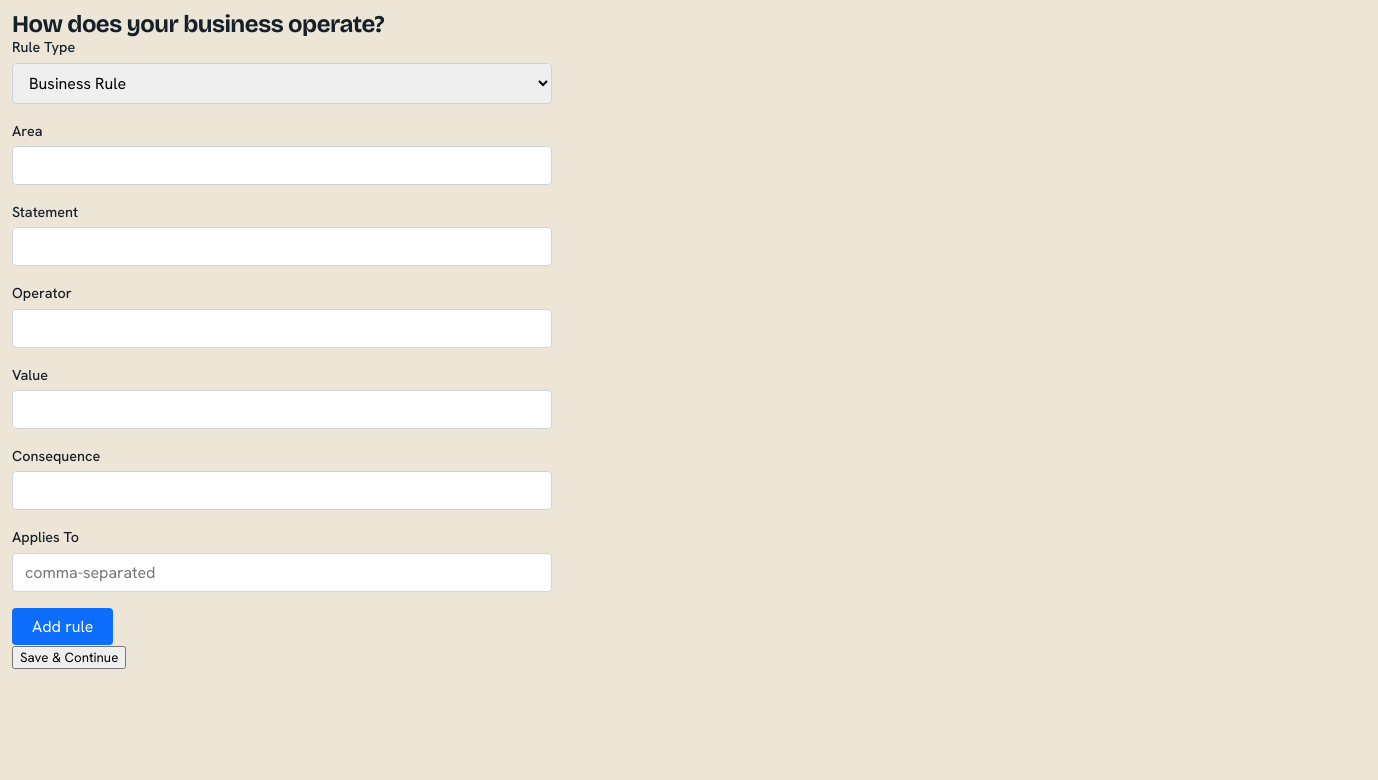
Test: RulesStep › can add a rule: fill form and click Add rule → rule appears in list
Select "Business Rule" in the dropdown labelled "Rule Type" at (282, 83), box [12,63,552,104]
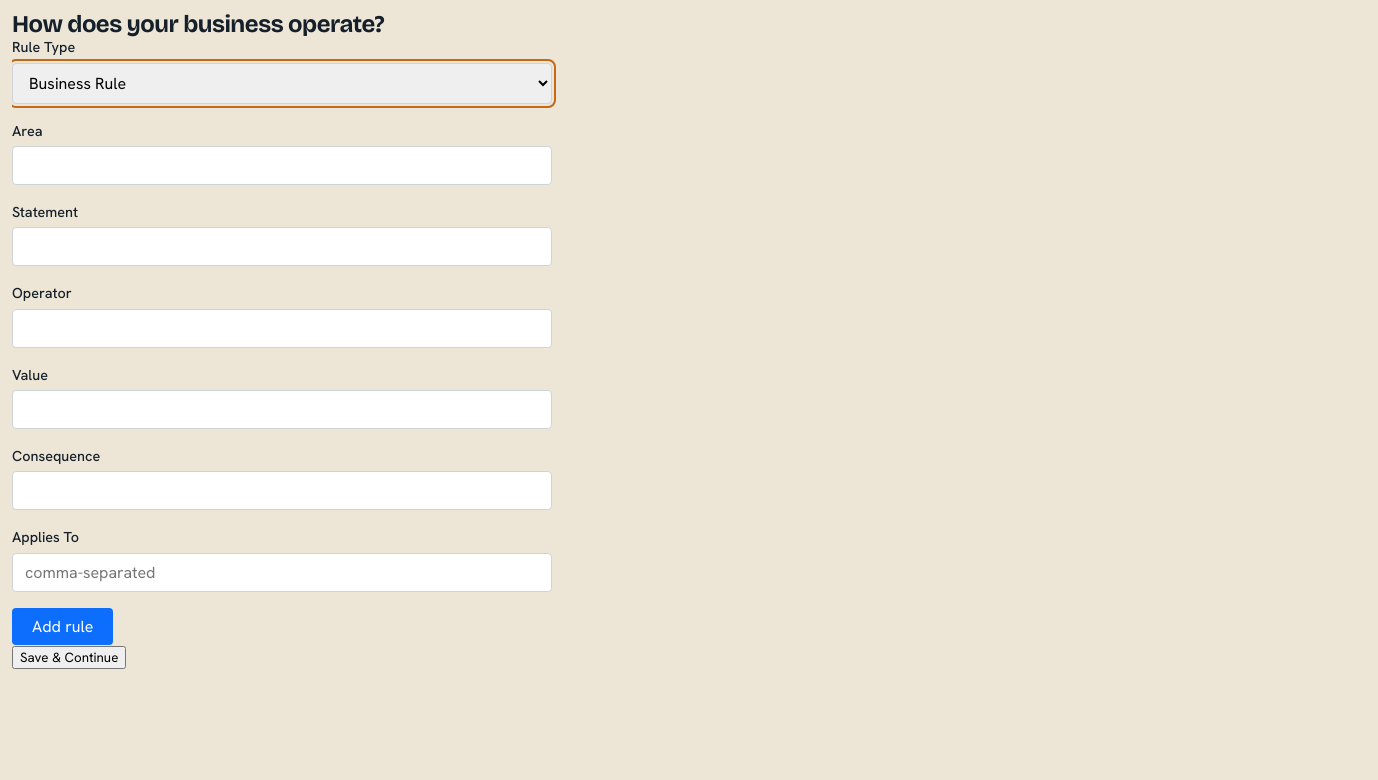
Type "HR" into the field labelled "Area" at (282, 166), box [12,146,552,185]
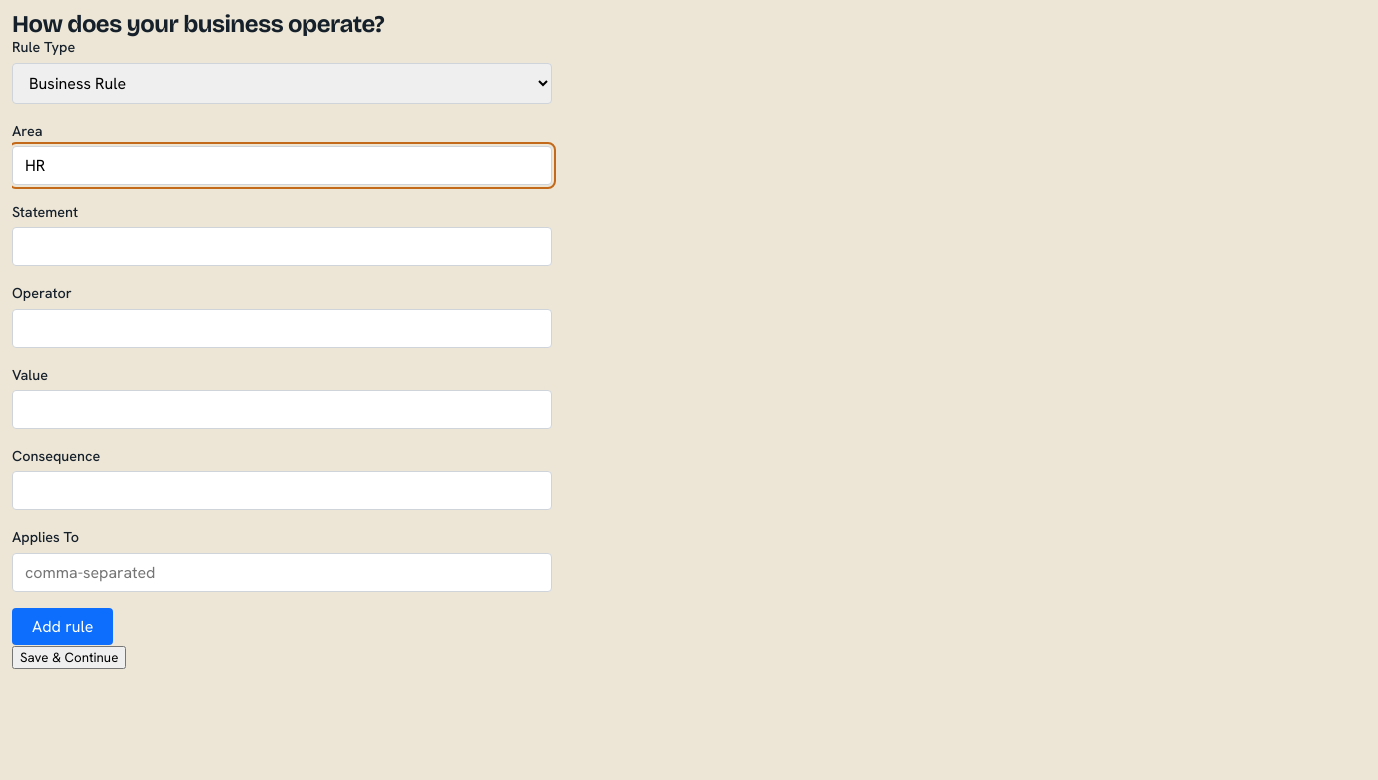
Type "All employees must have a contract" into the field labelled "Statement" at (282, 247), box [12,228,552,266]
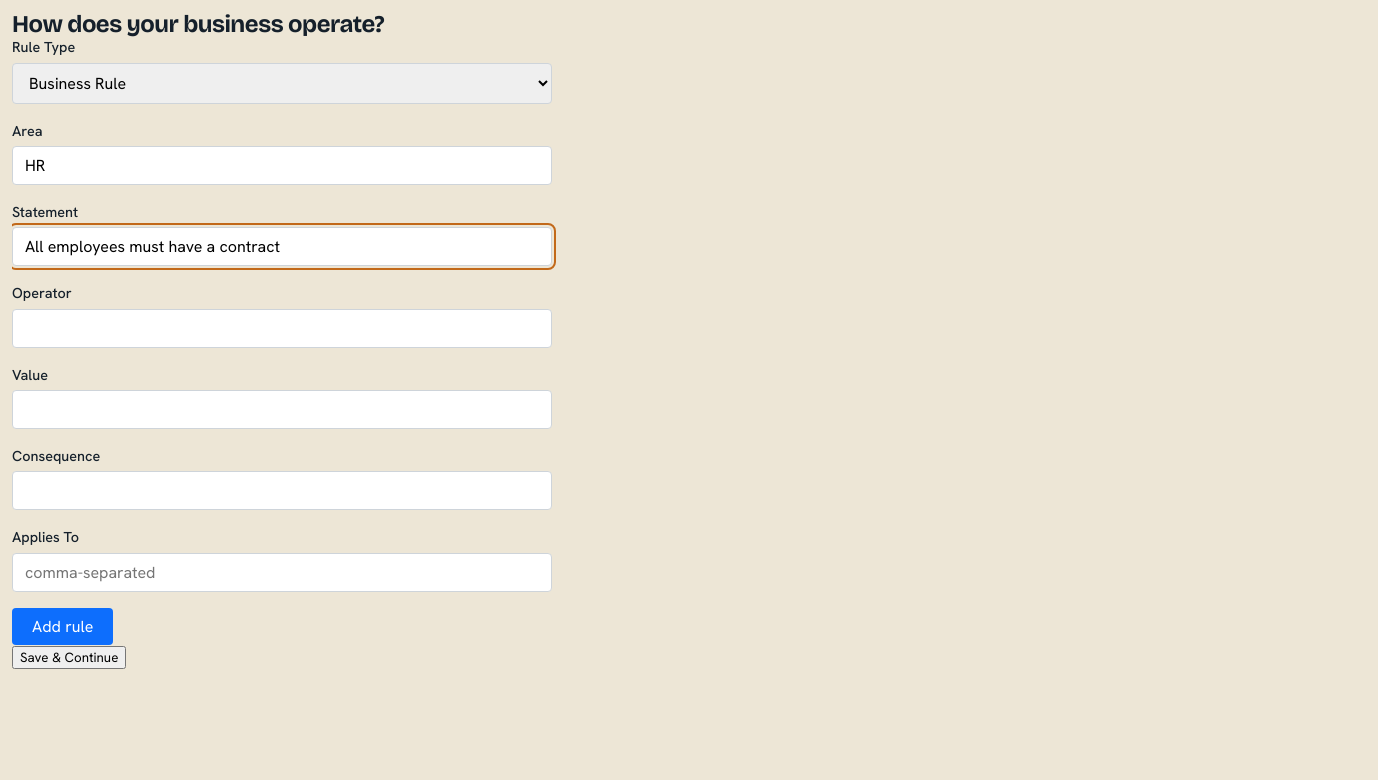
Type "Disciplinary action" into the field labelled "Consequence" at (282, 491), box [12,471,552,510]
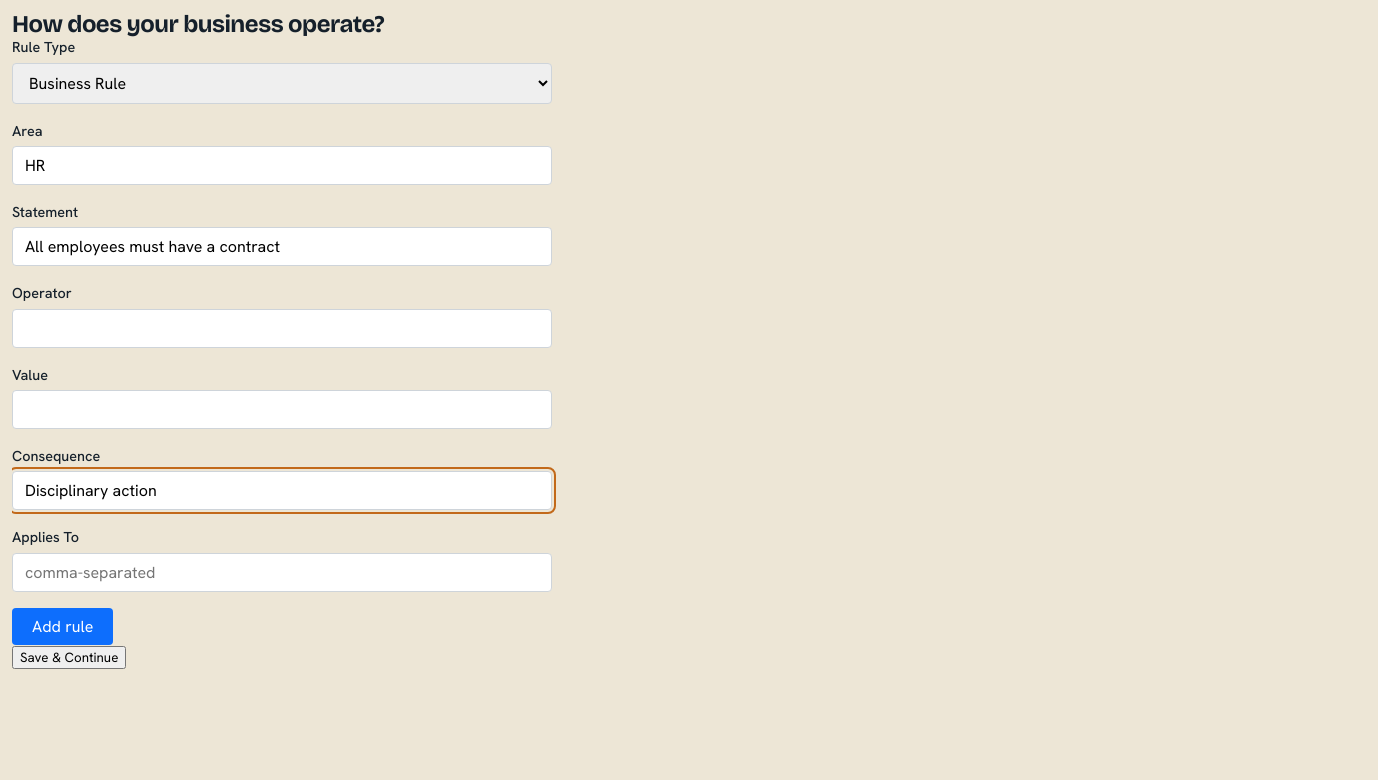
Type "all staff" into the field labelled "Applies To" at (282, 572), box [12,553,552,592]
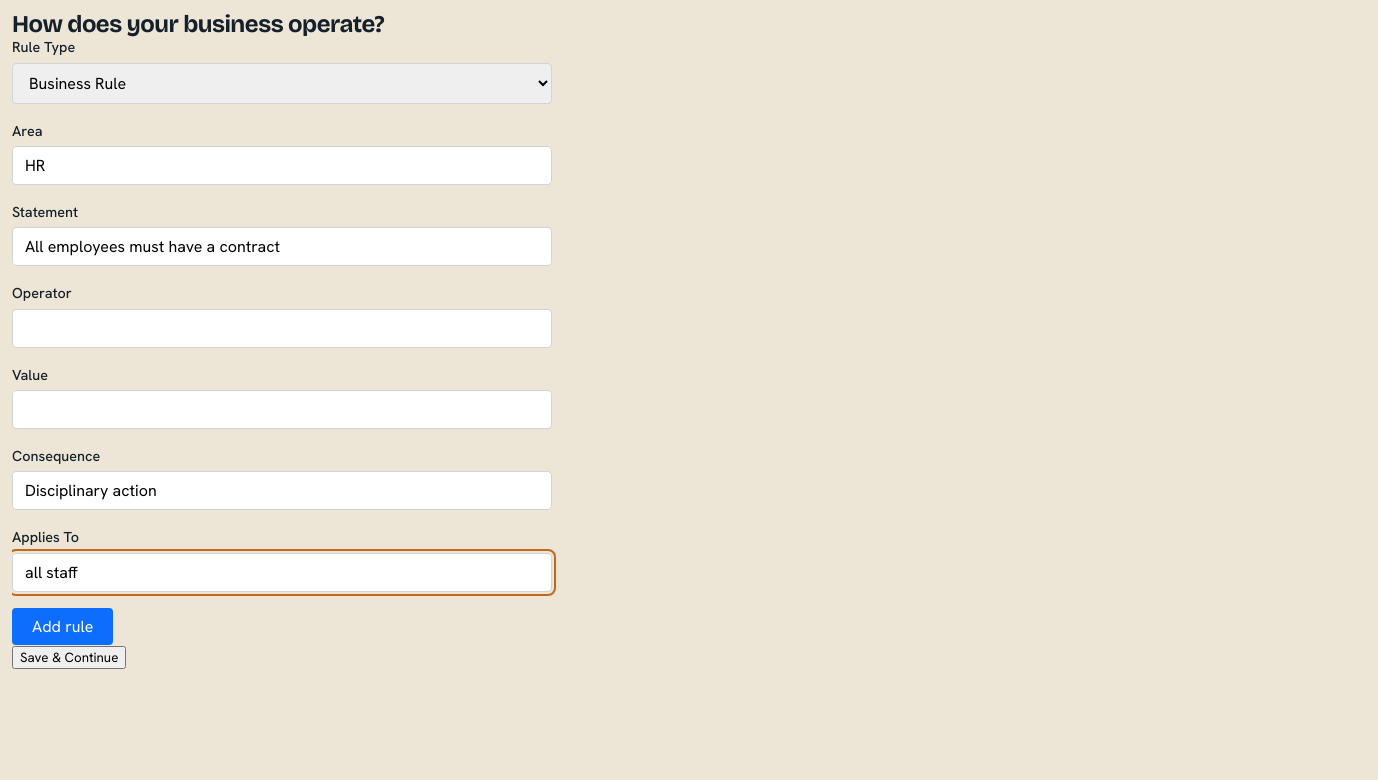
Click the button "Add rule" at (63, 626), box [12,608,113,645]
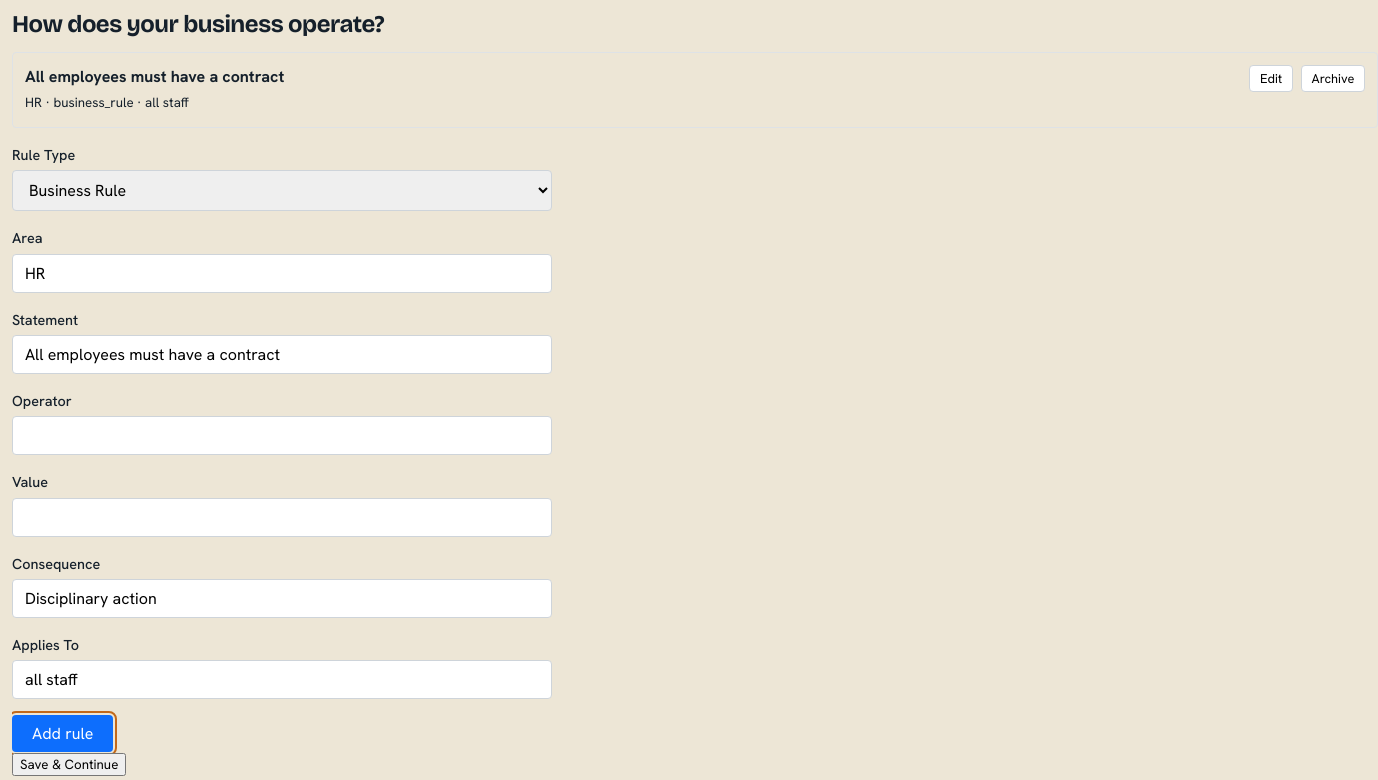
Result: the text "All employees must have a contract" is shown at [25,66,284,88]
